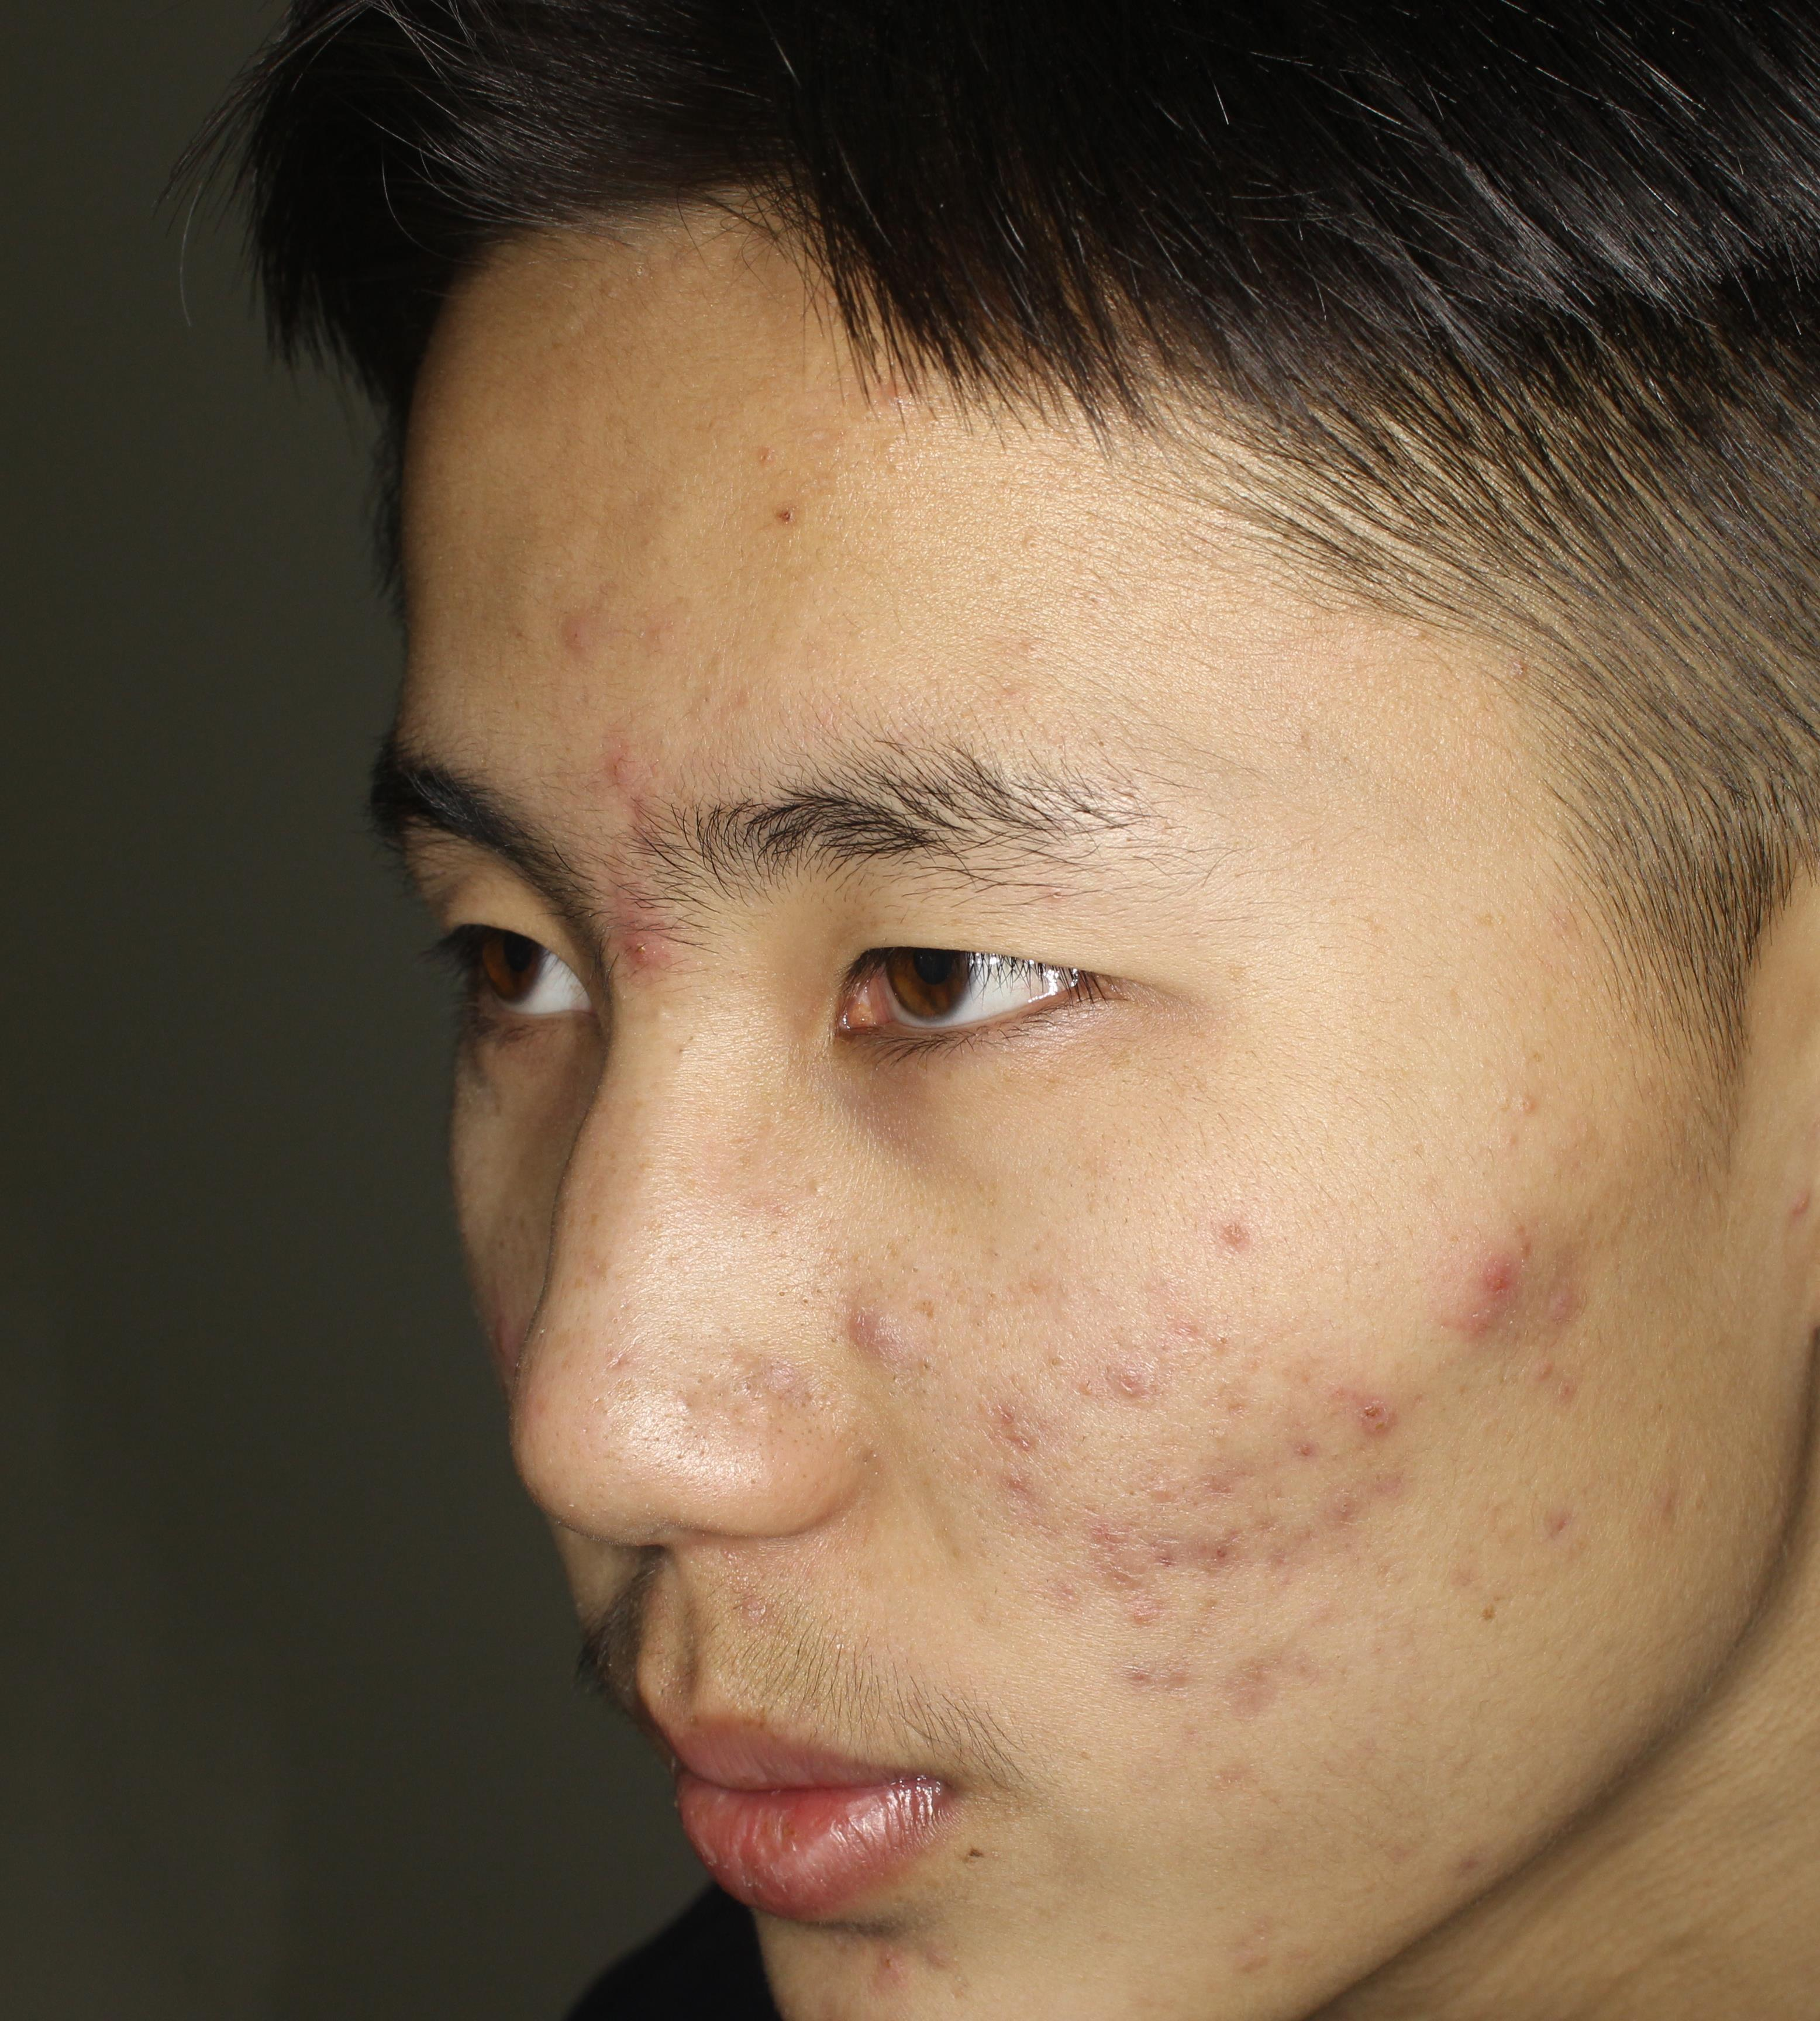fore: (1435, 1231, 1571, 1392), (1198, 1199, 1319, 1294), (1082, 1315, 1166, 1436), (1175, 1428, 1268, 1531), (543, 572, 624, 685), (956, 1442, 1054, 1528), (1332, 1366, 1421, 1459), (1170, 1522, 1265, 1608), (1193, 1643, 1296, 1719), (808, 1298, 901, 1378), (1100, 1608, 1179, 1696), (583, 737, 655, 827), (1063, 1477, 1152, 1545), (611, 913, 687, 994), (1244, 1519, 1328, 1591), (1086, 1540, 1149, 1629), (870, 1916, 942, 1993), (991, 1375, 1059, 1456), (1337, 1450, 1418, 1517), (1126, 1521, 1202, 1589), (1256, 1415, 1319, 1473)
